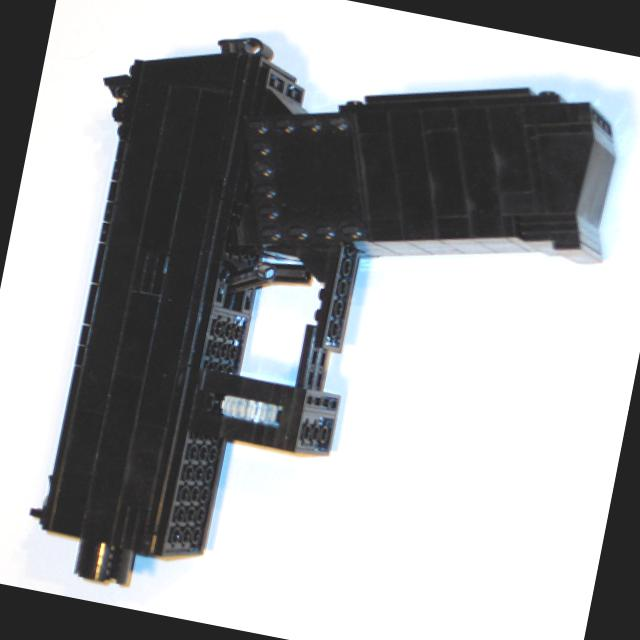handgun: (5, 6, 633, 639)
